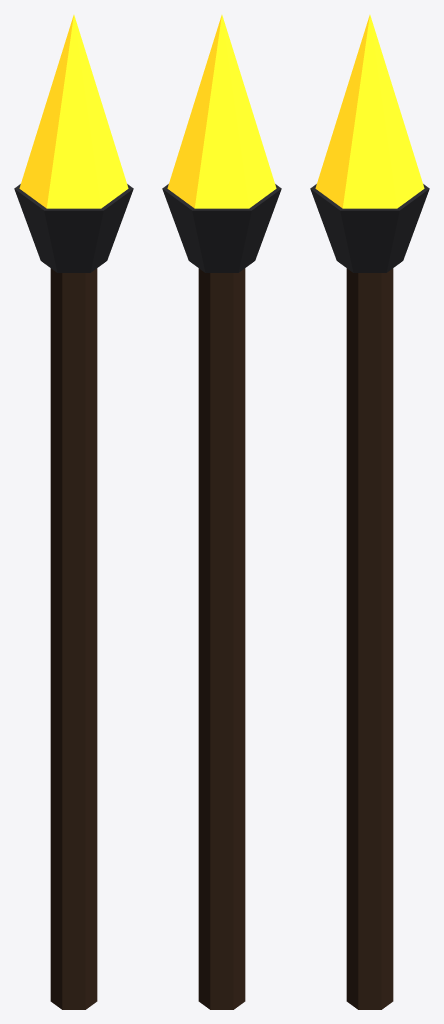
Rendered from torch.glb.
3 views of the same model, side by side, from view 1: azimuth 90°, elevation 25°; view 2: azimuth 150°, elevation 25°; view 3: azimuth 270°, elevation 25° (orthographic).
Parts seen in each view (by area): view 1: Torch_Left, Torch_Left_Flame; view 2: Torch_Left, Torch_Left_Flame; view 3: Torch_Left, Torch_Left_Flame.
Boxes of the visible parts, <box> form: Torch_Left: <box>14,184,133,1009</box>; Torch_Left_Flame: <box>19,15,128,208</box>; Torch_Left: <box>162,184,281,1009</box>; Torch_Left_Flame: <box>167,15,276,208</box>; Torch_Left: <box>310,184,429,1009</box>; Torch_Left_Flame: <box>315,15,424,208</box>.
Bounding box in the file's own units: 0.1559 × 1.64 × 0.18.
